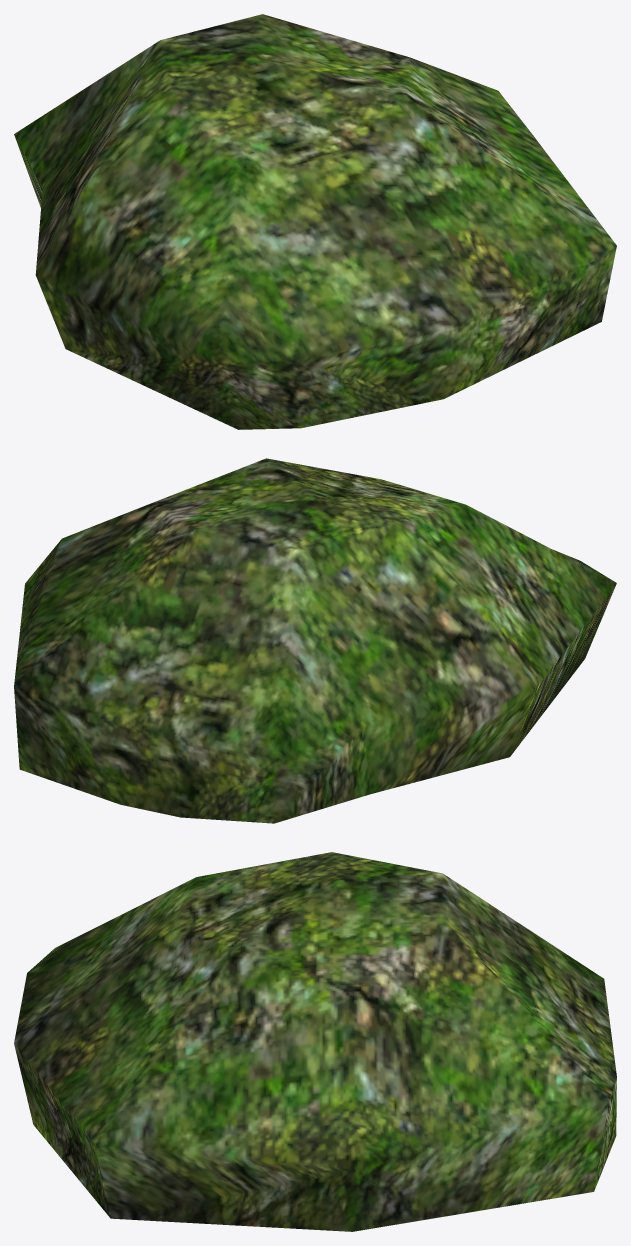
The model's file is frst_rock_mossy_lg_l1.fbx.
3 renders of one model, top to bottom at view 1: azimuth 30°, elevation 25°; view 2: azimuth 150°, elevation 25°; view 3: azimuth 270°, elevation 25°, orthographic. The views are drawn at different scales.
Visible parts, largest first — view 1: mesh_node; view 2: mesh_node; view 3: mesh_node.
Boxes of the visible parts, x1,y1,x2,y2 form: mesh_node: [14, 14, 616, 429]; mesh_node: [14, 458, 616, 823]; mesh_node: [14, 852, 616, 1231].
Size of the model in its own units: 1.99 by 0.8572 by 2.06.
